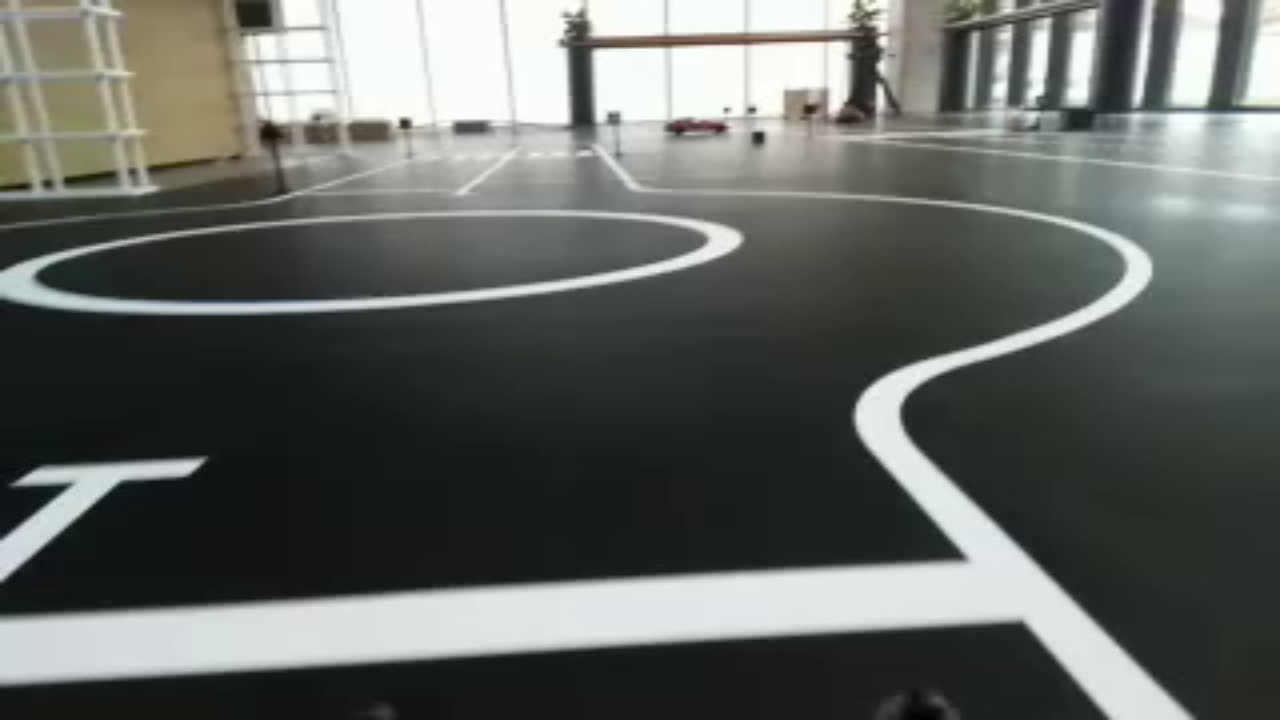car: (663, 114, 732, 140)
sign: (603, 108, 622, 128)
